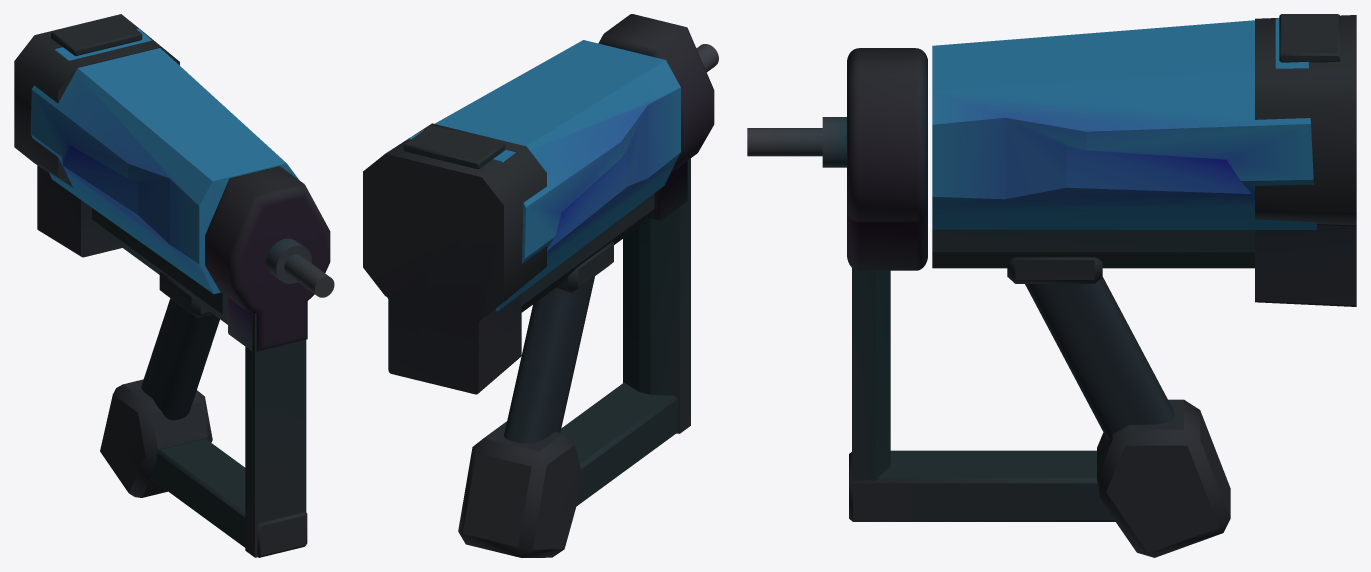
3 renders of one model, left to right at view 1: azimuth 30°, elevation 25°; view 2: azimuth 150°, elevation 25°; view 3: azimuth 270°, elevation 25°, orthographic. The views are drawn at different scales.
Visible parts, largest first — view 1: blue_shell, cap, outer_post, deep_cap, bottom_bar, foot, grip, underside, roof_ridge, axle, hub, upper_collar; view 2: deep_cap, blue_shell, foot, outer_post, grip, bottom_bar, cap, roof_ridge, underside, upper_collar; view 3: blue_shell, deep_cap, cap, bottom_bar, foot, grip, underside, outer_post, roof_ridge, upper_collar, axle, hub.
Part boxes in pixels (left/top/right/bottom): blue_shell: left=30, top=28, right=298, bottom=293; cap: left=205, top=166, right=330, bottom=351; outer_post: left=245, top=313, right=306, bottom=557; deep_cap: left=14, top=14, right=179, bottom=257; bottom_bar: left=150, top=439, right=307, bottom=557; foot: left=100, top=379, right=212, bottom=497; grip: left=141, top=298, right=219, bottom=420; underside: left=92, top=208, right=227, bottom=324; roof_ridge: left=51, top=16, right=142, bottom=56; axle: left=284, top=254, right=334, bottom=297; hub: left=266, top=238, right=311, bottom=283; upper_collar: left=159, top=272, right=212, bottom=317; deep_cap: left=363, top=123, right=546, bottom=394; blue_shell: left=408, top=40, right=680, bottom=310; foot: left=458, top=421, right=583, bottom=557; outer_post: left=623, top=158, right=690, bottom=433; grip: left=504, top=276, right=594, bottom=443; bottom_bar: left=560, top=382, right=677, bottom=506; cap: left=598, top=14, right=714, bottom=220; roof_ridge: left=403, top=125, right=505, bottom=169; underside: left=521, top=193, right=654, bottom=312; upper_collar: left=556, top=241, right=613, bottom=292; blue_shell: left=932, top=18, right=1316, bottom=230; deep_cap: left=1255, top=15, right=1356, bottom=306; cap: left=847, top=48, right=927, bottom=270; bottom_bar: left=849, top=450, right=1115, bottom=521; foot: left=1097, top=399, right=1230, bottom=557; grip: left=1025, top=277, right=1174, bottom=440; underside: left=932, top=229, right=1254, bottom=268; outer_post: left=852, top=268, right=890, bottom=521; roof_ridge: left=1279, top=14, right=1340, bottom=62; upper_collar: left=1007, top=257, right=1102, bottom=283; axle: left=747, top=128, right=822, bottom=156; hub: left=822, top=117, right=846, bottom=167.
Bounding box in the file's own units: 0.0908 × 0.2768 × 0.3.
